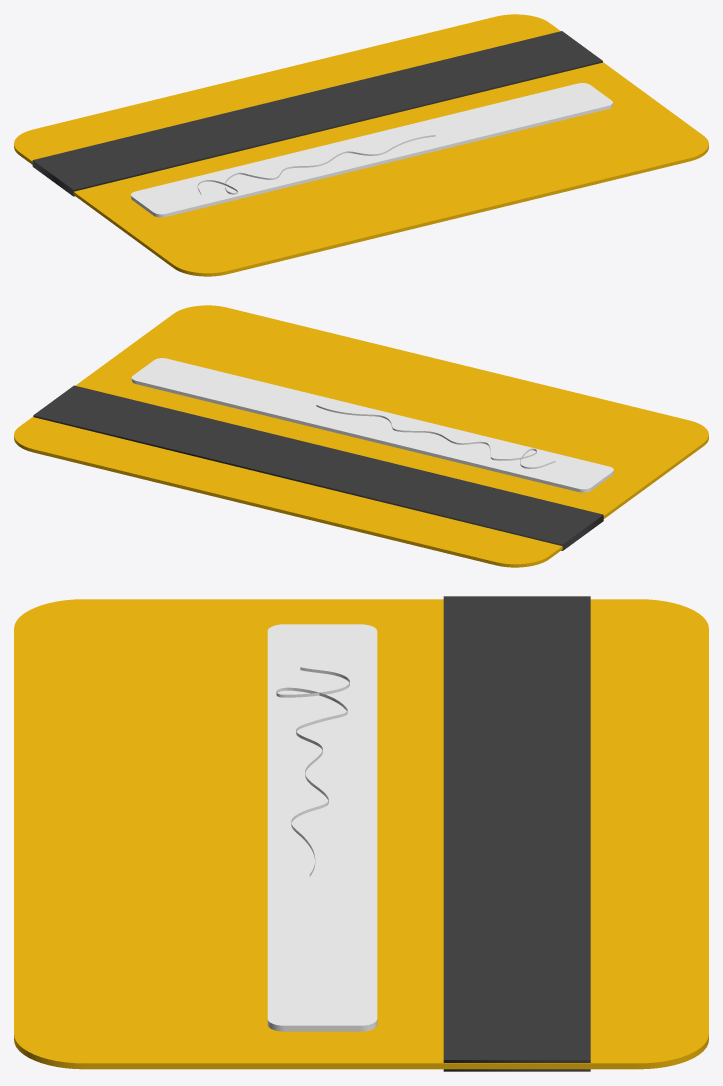
Rendered from emoji_u1f4b3.glb.
3 renders of one model, top to bottom at view 1: azimuth 30°, elevation 25°; view 2: azimuth 150°, elevation 25°; view 3: azimuth 270°, elevation 25°, orthographic. The views are drawn at different scales.
Parts seen in each view (by area): view 1: emoji_u1f4b3; view 2: emoji_u1f4b3; view 3: emoji_u1f4b3.
Boxes of the visible parts, x1,y1,x2,y2 form: emoji_u1f4b3: (14,14,708,276); emoji_u1f4b3: (14,305,708,567); emoji_u1f4b3: (14,596,708,1071).
Size of the model in its own units: 0.0339 by 0.0008 by 0.0214.
